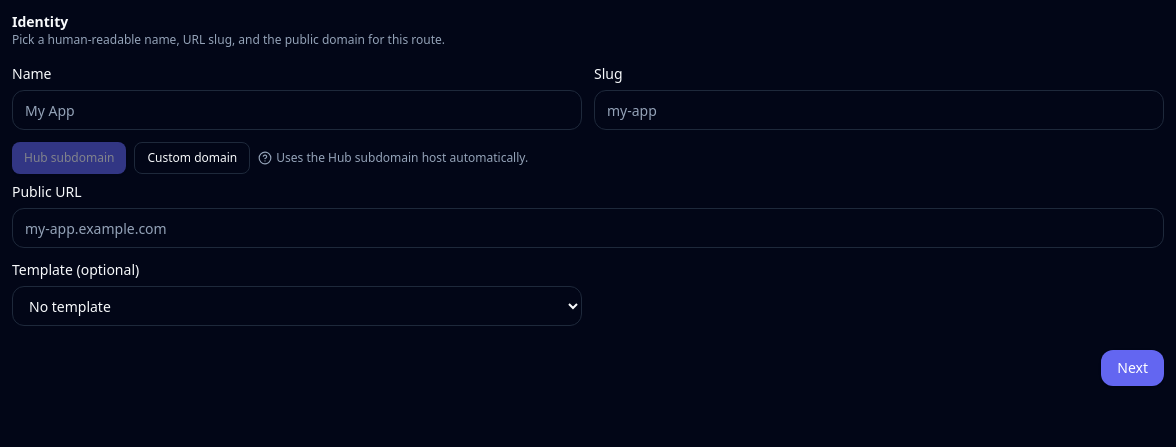
Test: StepIdentity › blocks Next when required fields are empty
What coordinates should you click on to do the following:
click the button "Next"
I would click on:
 (1133, 368)
Its box is top-left (1101, 350), bottom-right (1164, 386).
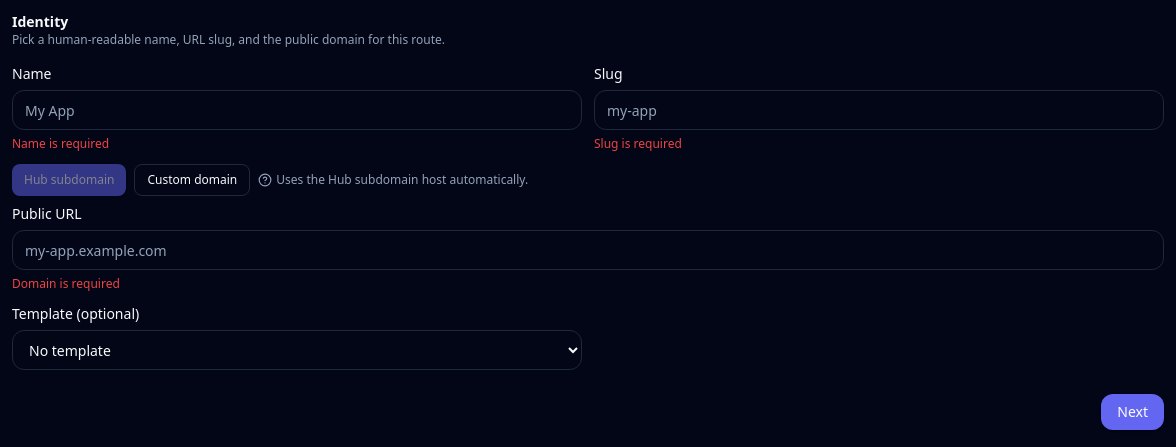
Expected: the text "Name is required" is shown, top-left (12, 135), bottom-right (109, 152)
Expected: the text "Slug is required" is shown, top-left (594, 135), bottom-right (682, 152)
Expected: the text "Domain is required" is shown, top-left (12, 275), bottom-right (120, 292)
